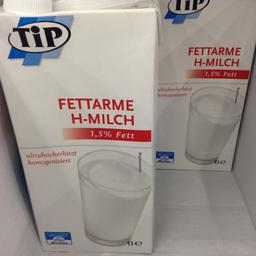milk: (0, 0, 154, 255), (158, 0, 255, 179)
